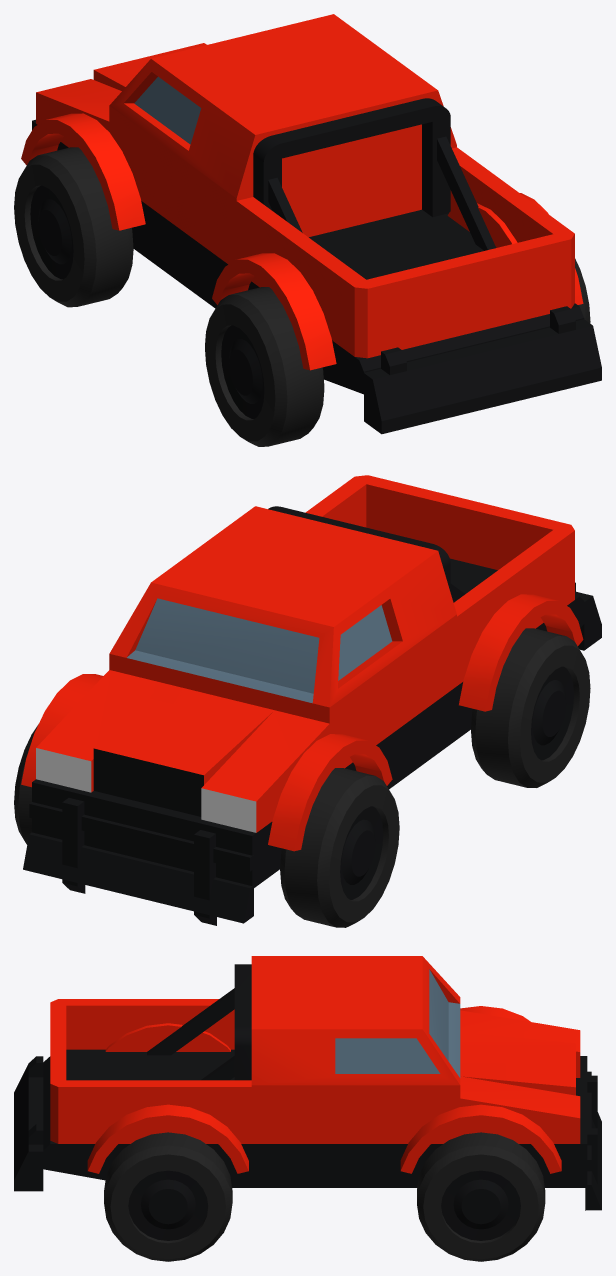
File: LoftCar.fbx
3 views of the same model, one above another, from view 1: azimuth 30°, elevation 25°; view 2: azimuth 150°, elevation 25°; view 3: azimuth 270°, elevation 25° (orthographic). The views are drawn at different scales.
Visible parts, largest first — view 1: windshield_square_1, trunk_bed_4, detail_bumper_16, wheel_small_5, wheel_small_6, detail_rollbar_9, detail_fender_12, detail_fender_11, hood_luxurious%_3, detail_fender_13; view 2: windshield_square_1, hood_luxurious%_3, trunk_bed_4, detail_bullbar_15, wheel_small_5, wheel_small_6, detail_fender_11, detail_fender_12, detail_fender_14, detail_rollbar_9, wheel_small_8, detail_bumper_16; view 3: windshield_square_1, trunk_bed_4, hood_luxurious%_3, wheel_small_7, wheel_small_8, detail_rollbar_9, detail_fender_14, detail_fender_13, detail_bumper_16, detail_bullbar_15, detail_fender_12, detail_fender_11.
Boxes of the visible parts, bbox=[...] form: windshield_square_1: bbox=[109, 14, 456, 308]; trunk_bed_4: bbox=[236, 147, 584, 394]; detail_bumper_16: bbox=[364, 306, 601, 434]; wheel_small_5: bbox=[14, 147, 133, 307]; wheel_small_6: bbox=[205, 287, 324, 446]; detail_rollbar_9: bbox=[253, 98, 496, 250]; detail_fender_12: bbox=[212, 253, 336, 370]; detail_fender_11: bbox=[21, 113, 145, 230]; hood_luxurious%_3: bbox=[32, 43, 206, 150]; detail_fender_13: bbox=[447, 193, 583, 304]; windshield_square_1: bbox=[109, 506, 456, 789]; hood_luxurious%_3: bbox=[32, 670, 329, 887]; trunk_bed_4: bbox=[305, 475, 584, 739]; detail_bullbar_15: bbox=[23, 798, 253, 925]; wheel_small_5: bbox=[280, 768, 399, 927]; wheel_small_6: bbox=[471, 628, 590, 787]; detail_fender_11: bbox=[268, 734, 392, 851]; detail_fender_12: bbox=[459, 594, 583, 711]; detail_fender_14: bbox=[21, 674, 103, 787]; detail_rollbar_9: bbox=[268, 506, 465, 602]; wheel_small_8: bbox=[14, 724, 38, 844]; detail_bumper_16: bbox=[575, 582, 601, 650]; windshield_square_1: bbox=[251, 956, 460, 1187]; trunk_bed_4: bbox=[43, 999, 251, 1187]; hood_luxurious%_3: bbox=[460, 1010, 587, 1187]; wheel_small_7: bbox=[104, 1132, 232, 1261]; wheel_small_8: bbox=[417, 1132, 545, 1261]; detail_rollbar_9: bbox=[147, 964, 251, 1080]; detail_fender_14: bbox=[400, 1104, 561, 1173]; detail_fender_13: bbox=[87, 1104, 248, 1173]; detail_bumper_16: bbox=[14, 1056, 43, 1191]; detail_bullbar_15: bbox=[585, 1071, 601, 1210]; detail_fender_12: bbox=[105, 1023, 230, 1051]; detail_fender_11: bbox=[460, 1006, 530, 1021].
Size of the model in its own units: 14.31 by 11.08 by 28.2.
